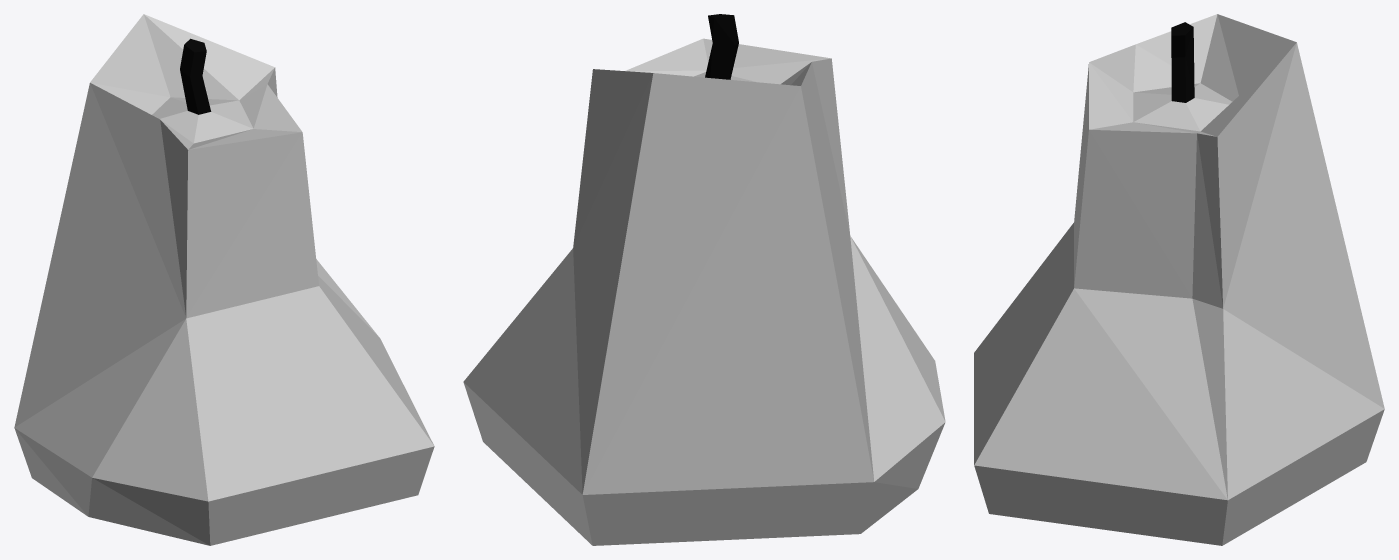
The model's file is Candle_01.fbx.
The picture shows the model from 3 angles, left to right: view 1: azimuth 30°, elevation 25°; view 2: azimuth 150°, elevation 25°; view 3: azimuth 270°, elevation 25°; orthographic projection. The views are drawn at different scales.
Visible parts, largest first — view 1: Candle_01; view 2: Candle_01; view 3: Candle_01.
Part boxes in pixels (box(x1,y1,x2,y2)): Candle_01: box(14, 14, 434, 545); Candle_01: box(463, 14, 945, 545); Candle_01: box(974, 14, 1384, 545).
Bounding box in the file's own units: 29.48 × 31.9 × 28.04.
